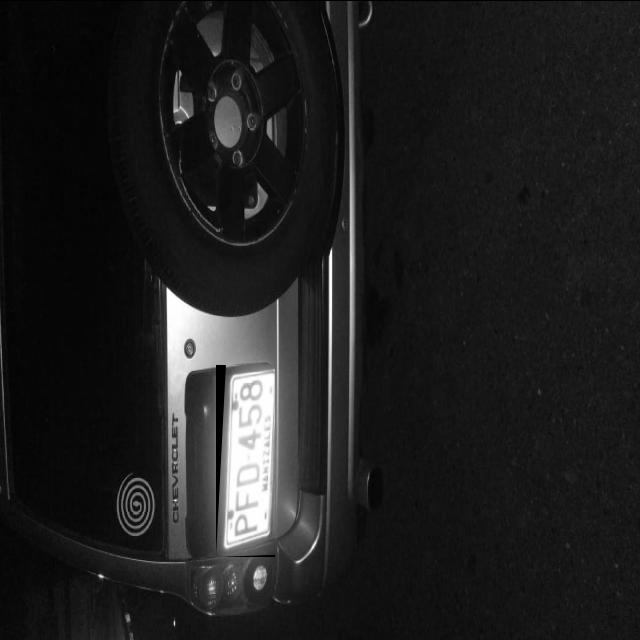plate: (216, 364, 275, 556)
